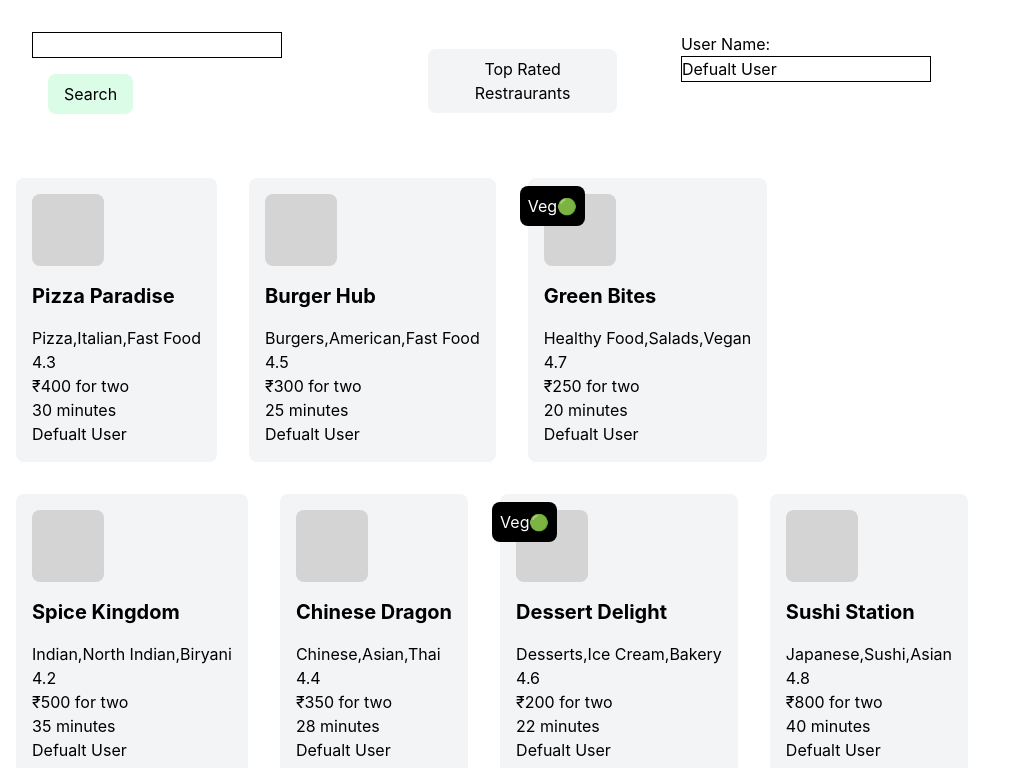
Scenario: Should search restaurant list for burger text input
Type "burger" into the field with test id "searchInput". click: (157, 45)
box: x1=32 y1=32 x2=282 y2=58
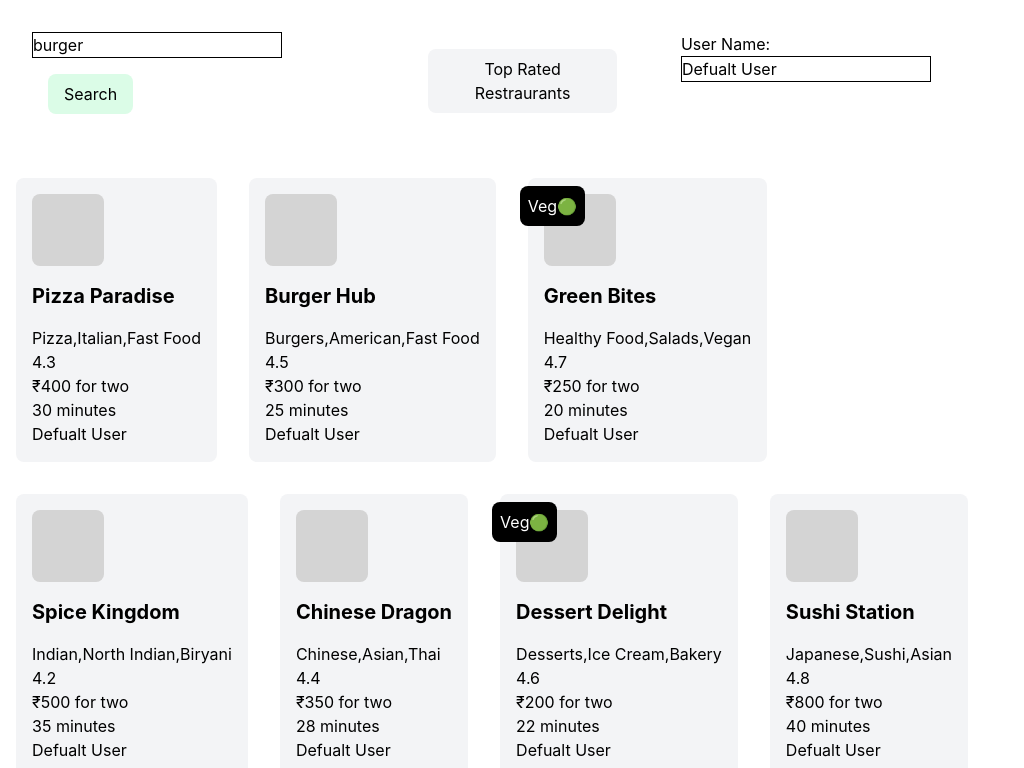
Click the button "Search". click: (91, 94)
box: x1=48 y1=74 x2=133 y2=114
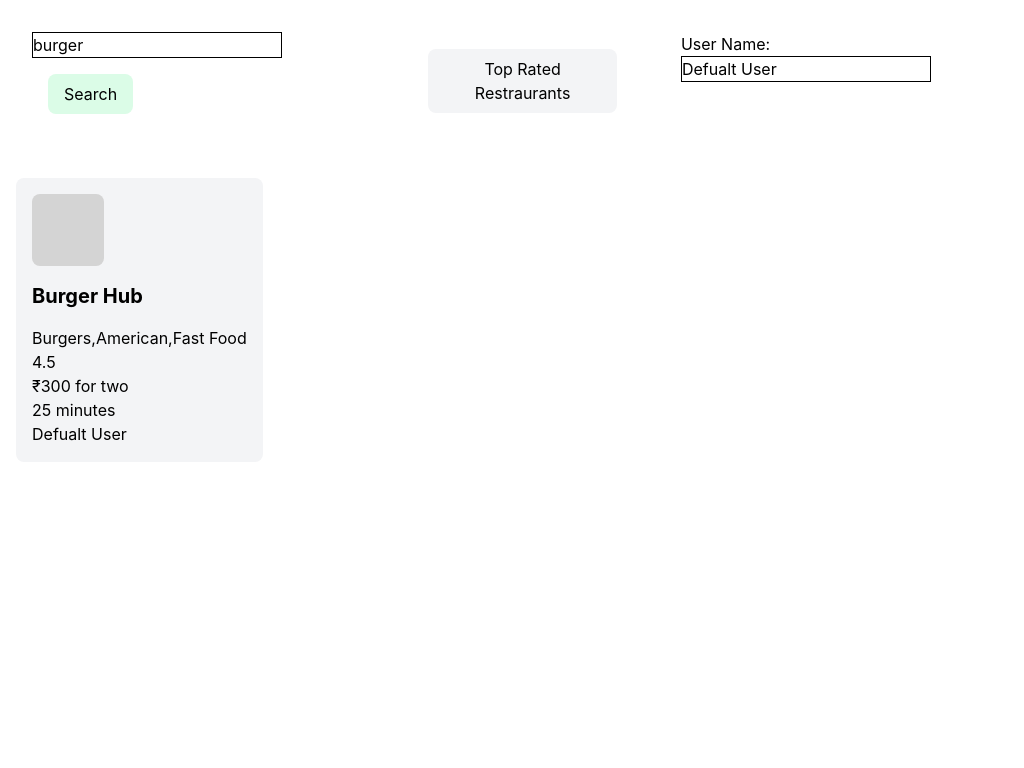
Check: the number of elements with test id "restaurantCard" is 1, box x1=16 y1=178 x2=263 y2=462
